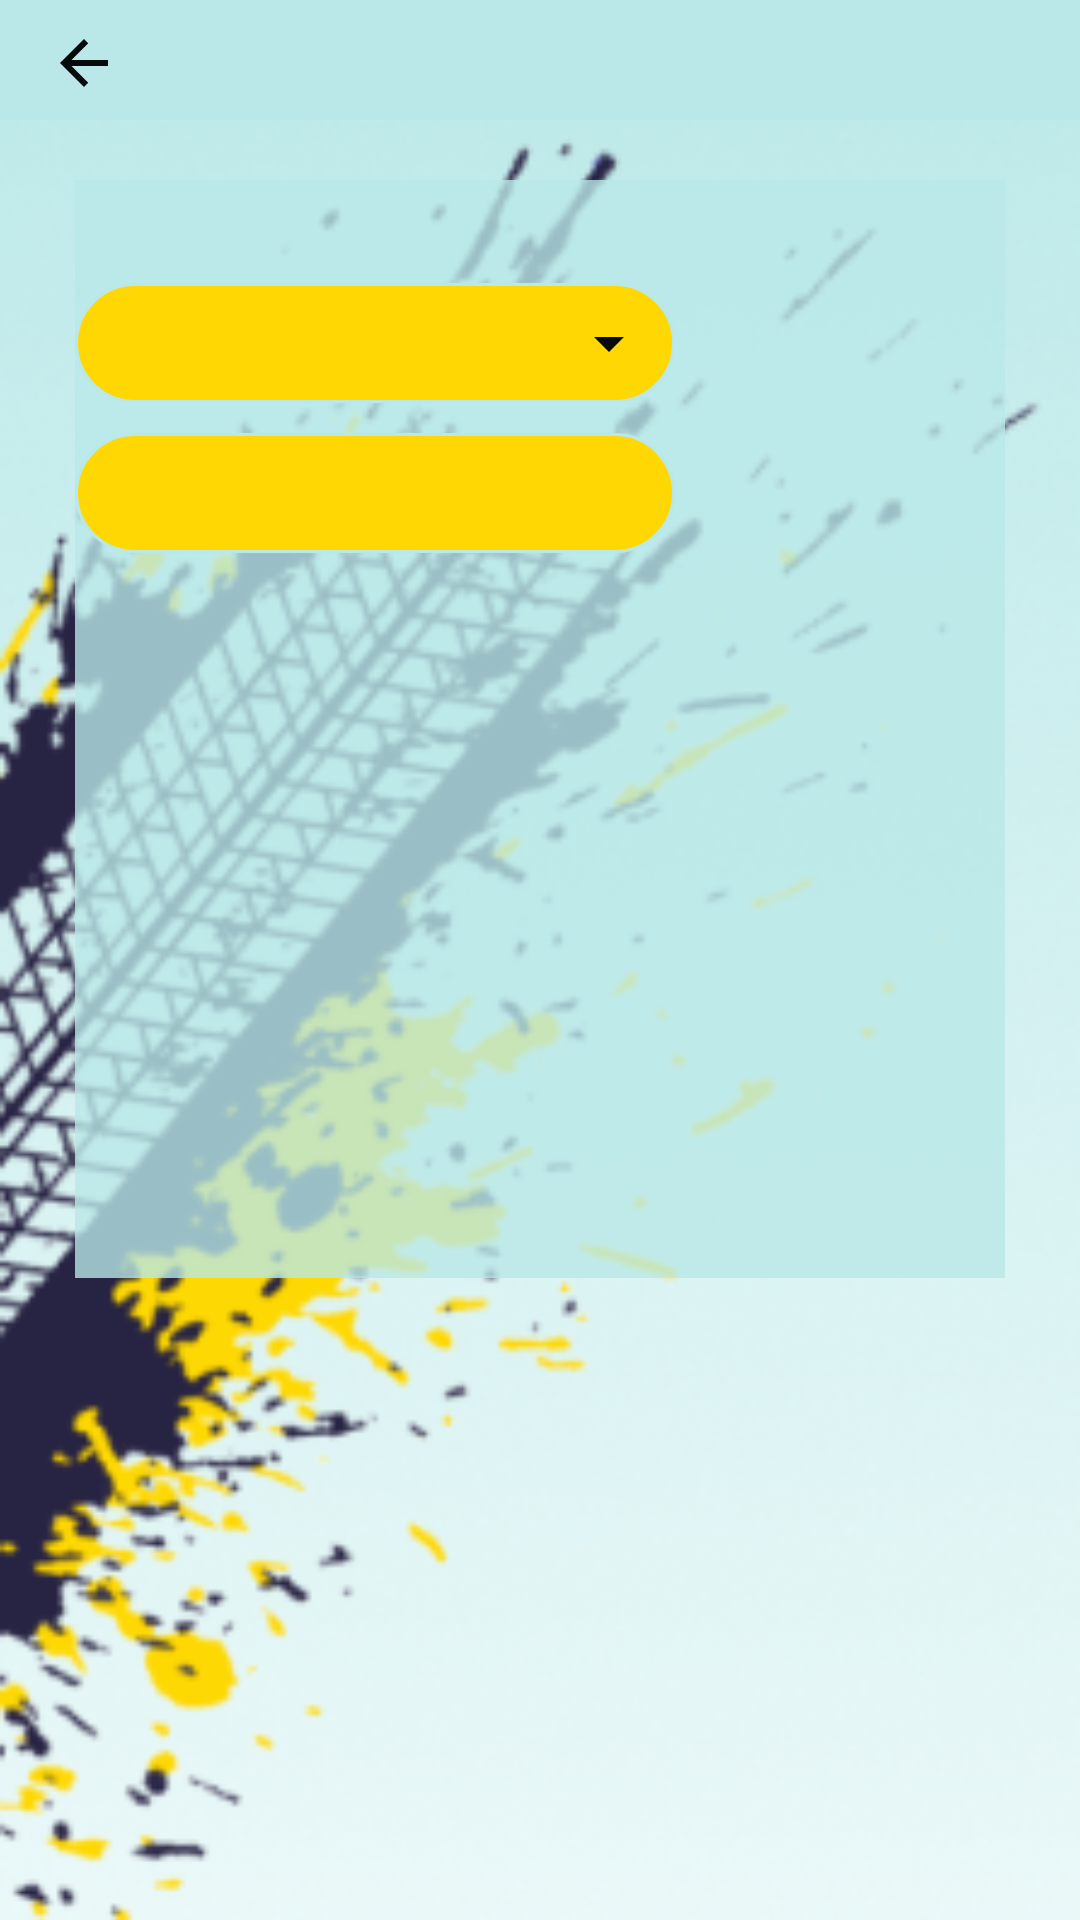

Icons on this 1080w x 1920h Android screen, each with its box as rect(x1, y1, x2, y2):
drop: rect(594, 337, 624, 352)
